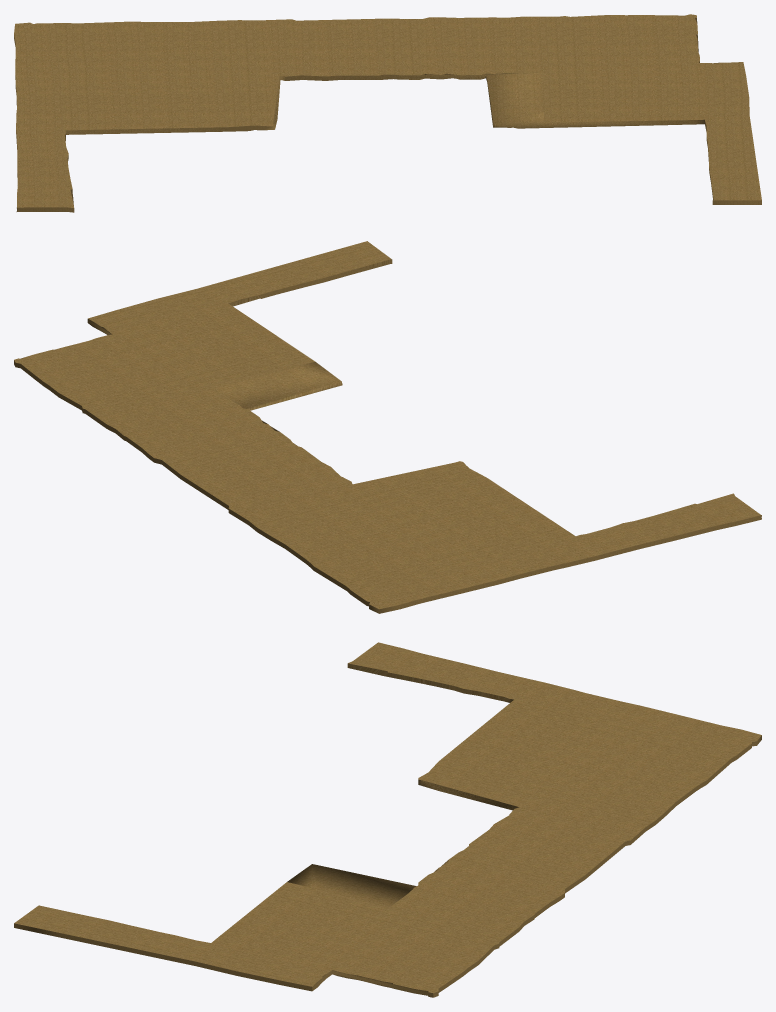
3 views of the same model, one above another, from view 1: azimuth 30°, elevation 25°; view 2: azimuth 150°, elevation 25°; view 3: azimuth 270°, elevation 25° (orthographic).
Visible parts, largest first — view 1: Q3; view 2: Q3; view 3: Q3.
Part boxes in pixels (x1,y1,x2,y2): Q3: [14, 14, 761, 212]; Q3: [14, 241, 761, 613]; Q3: [14, 642, 761, 997].
Bounding box in the file's own units: 1644 × 10 × 1480.
Materials: 1 (1 with a texture image).
